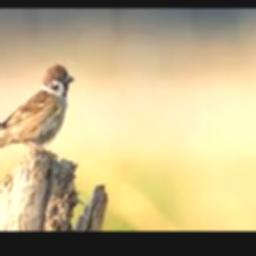Sparrow: (0, 64, 73, 165)
